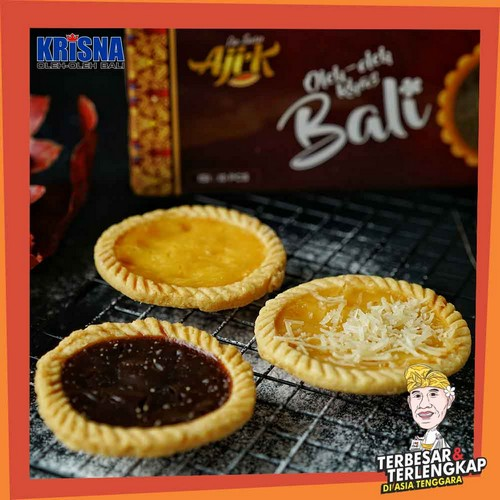pie susu: (29, 319, 275, 466), (258, 270, 493, 418), (106, 203, 276, 317)
